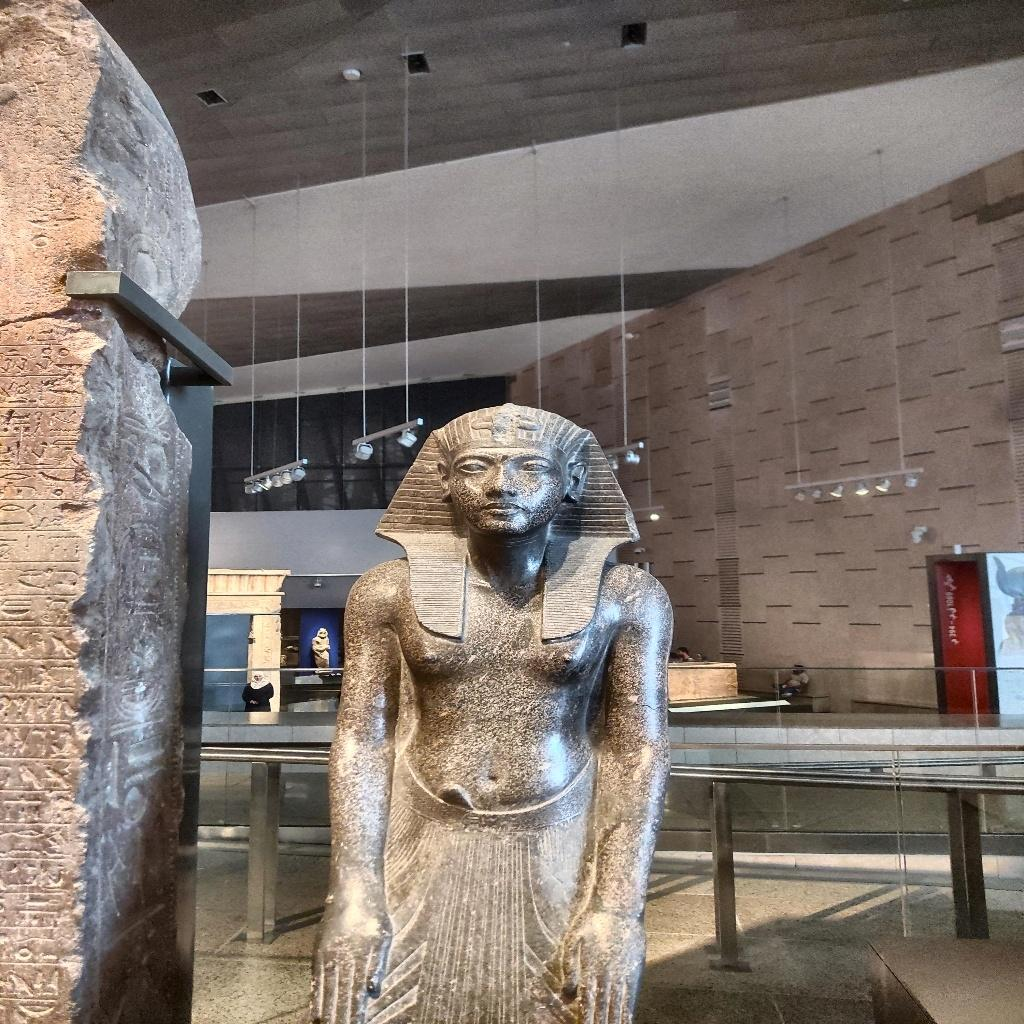Granite Statue of Tutankhamun: (306, 400, 678, 1022)
